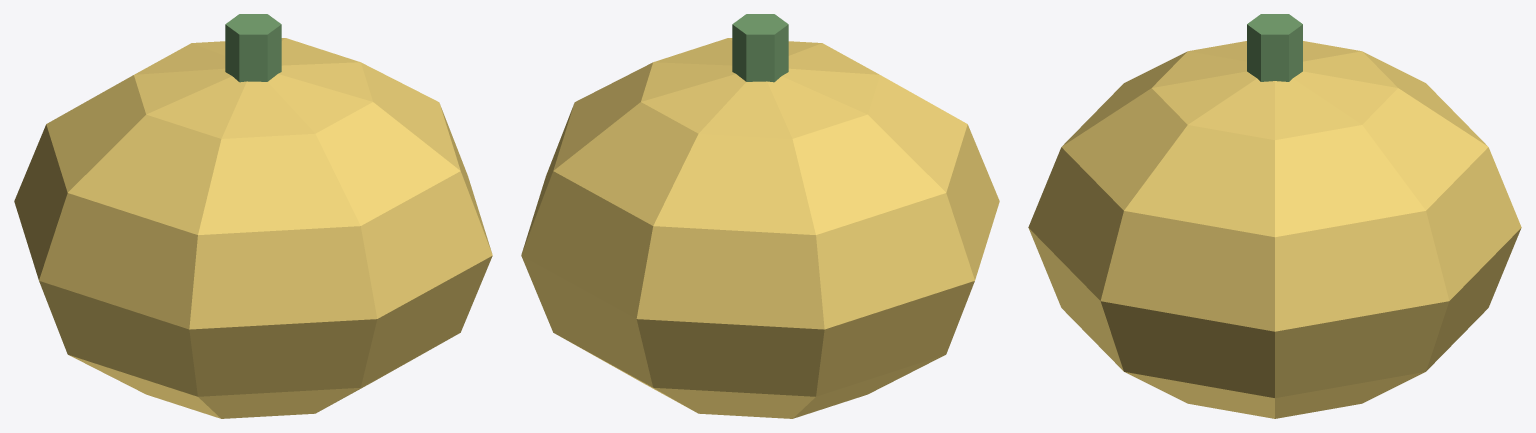
The model's file is SM_PumpkinPlant.fbx.
The picture shows the model from 3 angles, left to right: view 1: azimuth 30°, elevation 25°; view 2: azimuth 150°, elevation 25°; view 3: azimuth 270°, elevation 25°; orthographic projection.
Visible parts, largest first — view 1: SM_PumpkinPlant; view 2: SM_PumpkinPlant; view 3: SM_PumpkinPlant.
Boxes of the visible parts, x1,y1,x2,y2 form: SM_PumpkinPlant: (14,14,492,418); SM_PumpkinPlant: (521,14,999,418); SM_PumpkinPlant: (1028,14,1521,418).
Bounding box in the file's own units: 4400 × 4400 × 3584.
